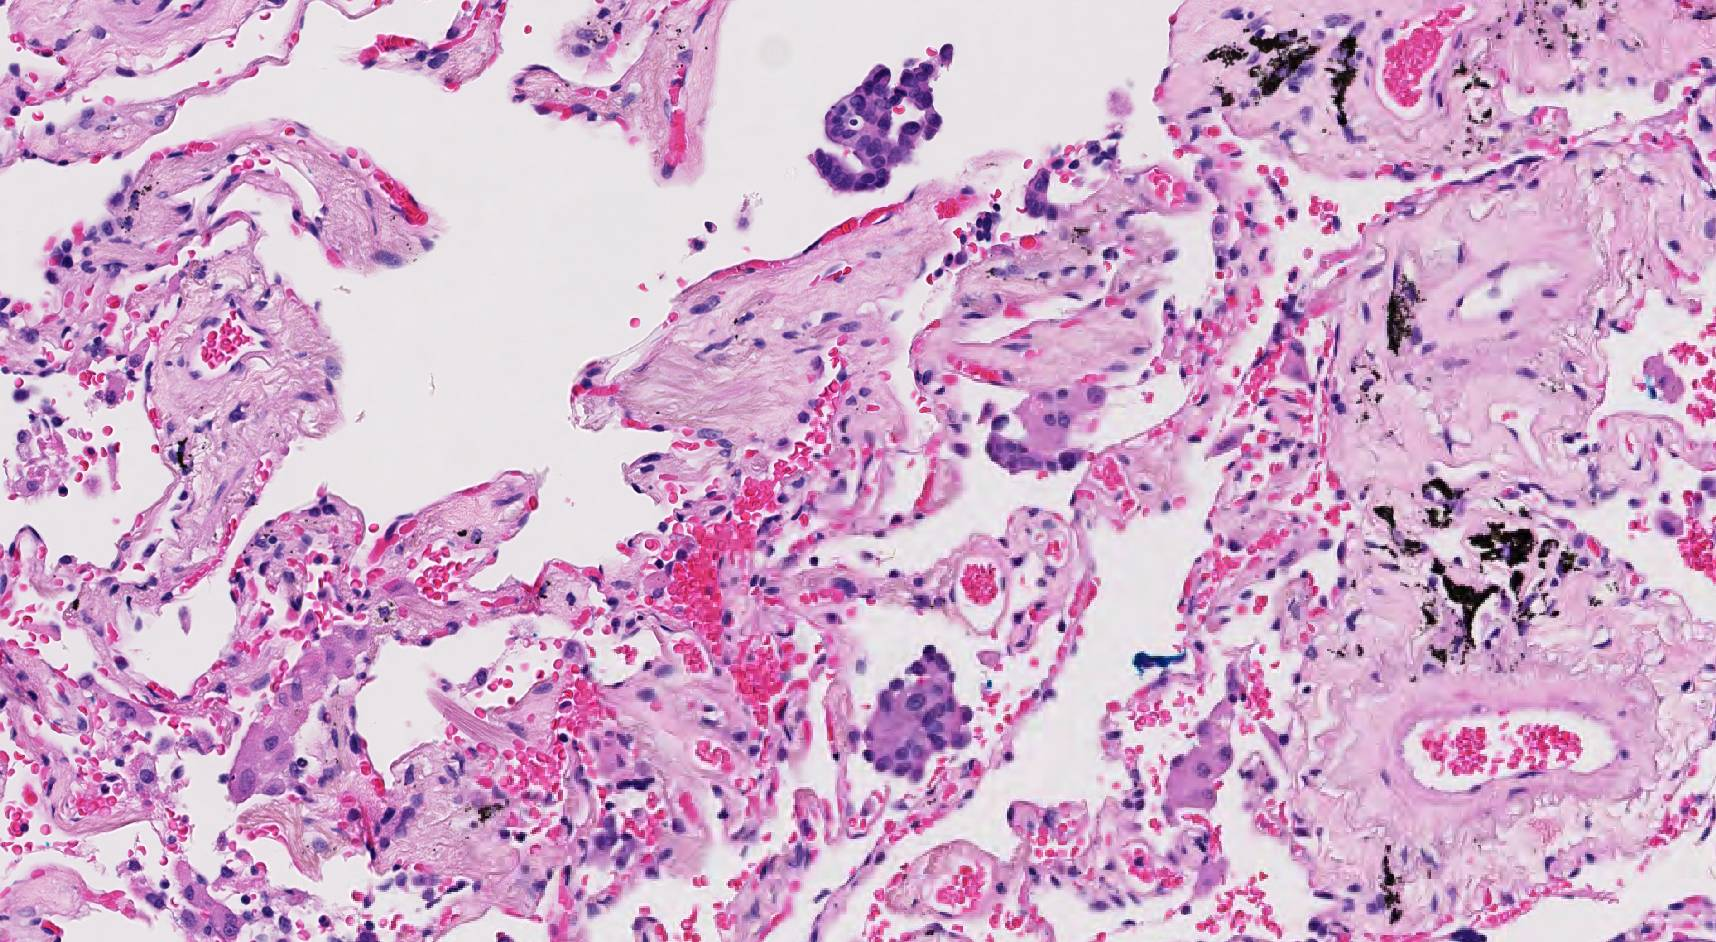stas: (808, 41, 957, 193), (858, 639, 978, 784), (983, 431, 1082, 477), (1020, 169, 1071, 223)
